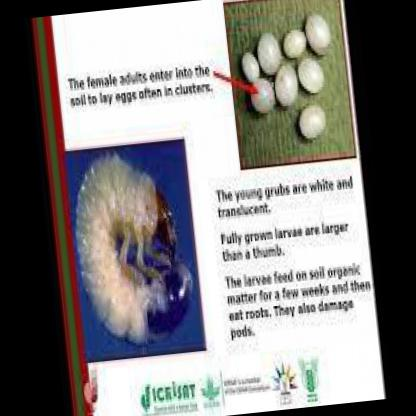root grubs: (74, 152, 193, 349)
